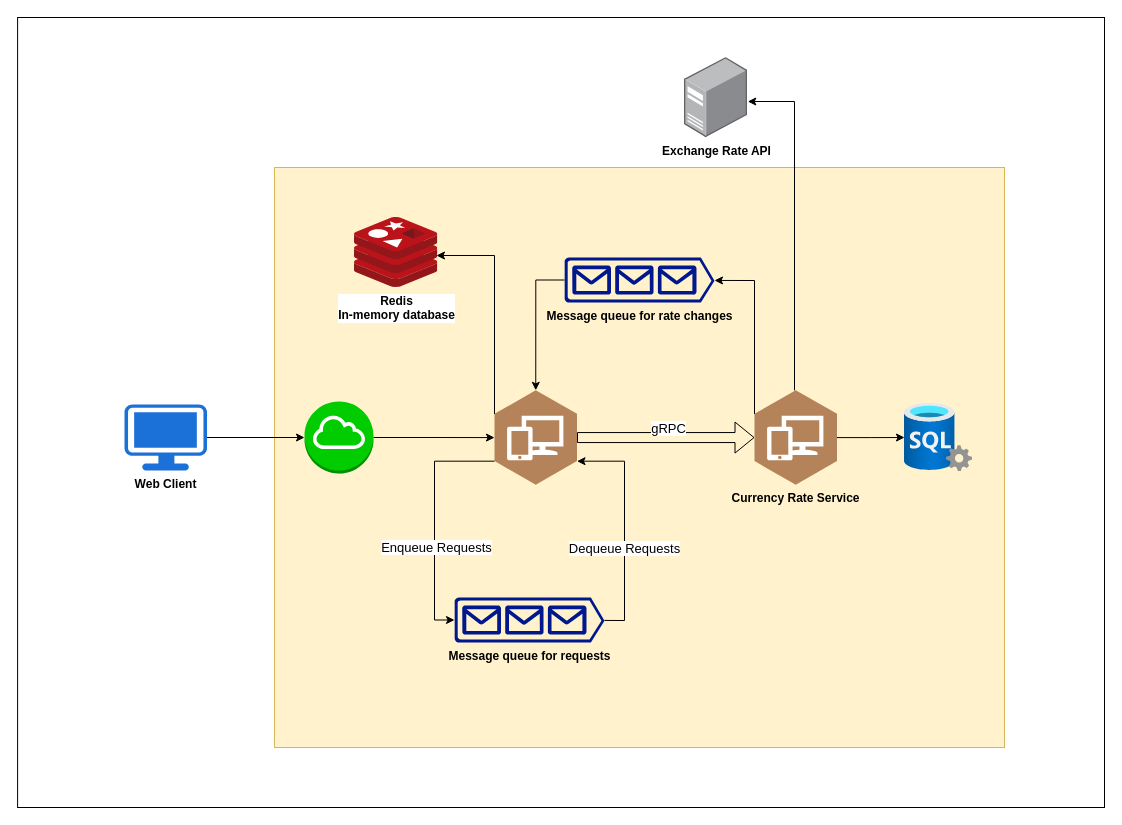
This 1122x825 diagram has some shape labels left out. Each missing label, with the centre of its shape:
API Gateway: [339,437]
Converter Service: [535,437]
SQL Database: [938,437]
